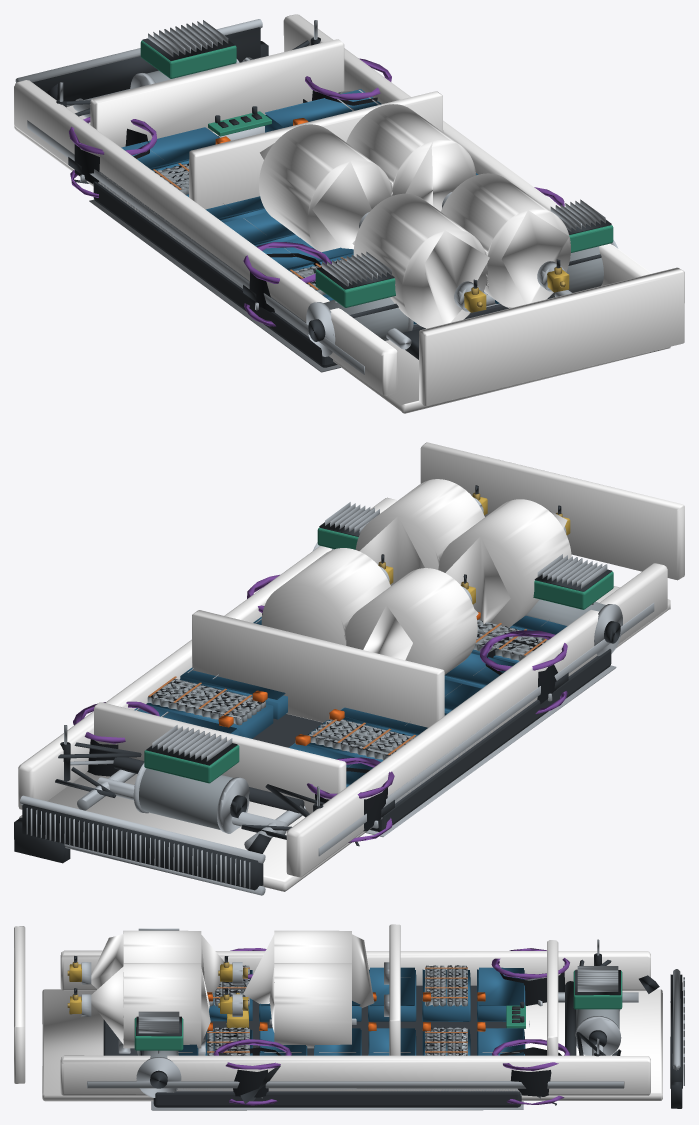
Rendered from roadster-interior.glb.
The picture shows the model from 3 angles, top to bottom: view 1: azimuth 30°, elevation 25°; view 2: azimuth 150°, elevation 25°; view 3: azimuth 270°, elevation 25°; orthographic projection. The views are drawn at different scales.
Parts seen in each view (by area): view 1: chassis, tanks, battery, drive-rear, drive-front, fan-front, fan-rear; view 2: chassis, tanks, battery, drive-front, drive-rear, fan-front, fan-rear; view 3: chassis, tanks, battery, drive-front, drive-rear, fan-front, fan-rear.
Part boxes in pixels (<box>): chassis: <box>14,14,684,413</box>; tanks: <box>259,104,570,328</box>; battery: <box>89,89,505,372</box>; drive-rear: <box>306,199,618,359</box>; drive-front: <box>15,19,268,106</box>; fan-front: <box>68,58,391,197</box>; fan-rear: <box>243,187,564,326</box>; chassis: <box>18,442,684,891</box>; tanks: <box>261,479,571,674</box>; battery: <box>134,612,616,836</box>; drive-front: <box>14,725,271,895</box>; drive-rear: <box>313,502,622,655</box>; fan-front: <box>73,701,394,846</box>; fan-rear: <box>247,574,568,714</box>; chassis: <box>14,924,662,1101</box>; tanks: <box>67,930,389,1055</box>; battery: <box>151,965,525,1110</box>; drive-front: <box>529,966,684,1108</box>; drive-rear: <box>103,928,183,1097</box>; fan-front: <box>491,948,570,1105</box>; fan-rear: <box>213,948,291,1105</box>.
Bounding box in the file's own units: 1.62 × 0.6884 × 3.81.
